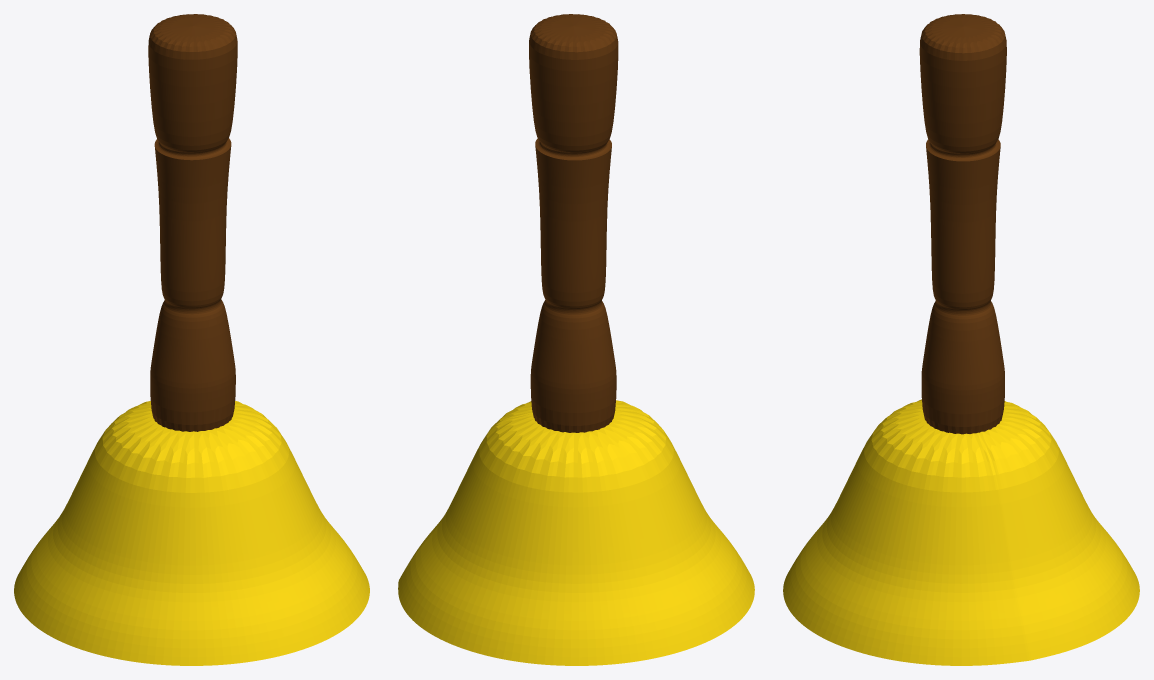
The model's file is thisbetterworkbell.fbx.
3 views of the same model, side by side, from view 1: azimuth 30°, elevation 25°; view 2: azimuth 150°, elevation 25°; view 3: azimuth 270°, elevation 25° (orthographic).
Parts seen in each view (by area): view 1: Bottom_gold, Circle.003; view 2: Bottom_gold, Circle.003; view 3: Bottom_gold, Circle.003.
Part boxes in pixels (x1,y1,x2,y2): Bottom_gold: (14,401,369,665); Circle.003: (148,14,237,431); Bottom_gold: (398,400,754,665); Circle.003: (529,14,618,432); Bottom_gold: (783,399,1139,665); Circle.003: (919,14,1006,434).
Bounding box in the file's own units: 337 × 617 × 337.
